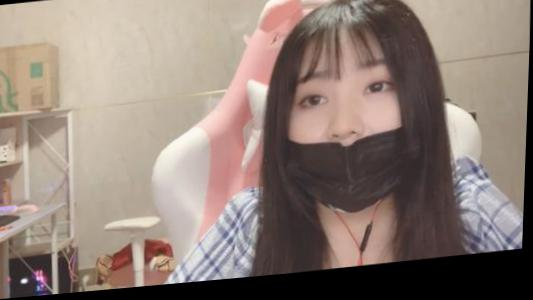WRONG: (286, 49, 413, 224)
